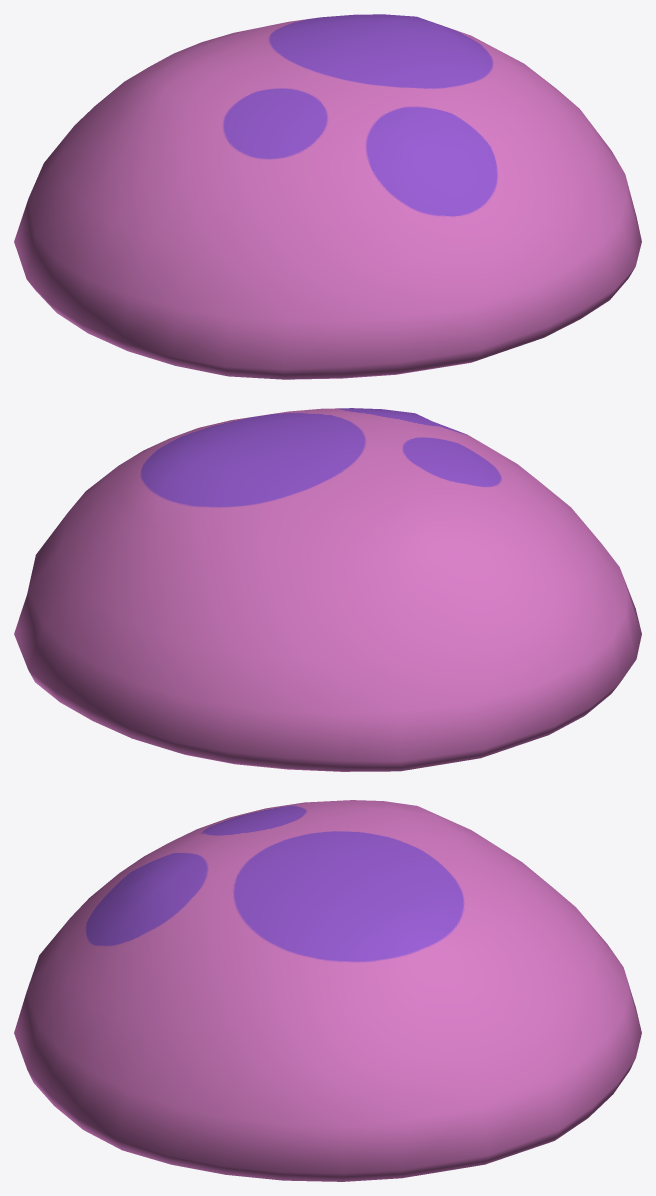
File: MushroomTop.fbx
3 views of the same model, one above another, from view 1: azimuth 30°, elevation 25°; view 2: azimuth 150°, elevation 25°; view 3: azimuth 270°, elevation 25° (orthographic). The views are drawn at different scales.
Visible parts, largest first — view 1: MushroomTop; view 2: MushroomTop; view 3: MushroomTop.
Boxes of the visible parts, box(x1,y1,x2,y2) form: MushroomTop: box(14, 14, 641, 379); MushroomTop: box(14, 408, 641, 771); MushroomTop: box(14, 800, 641, 1181).
Size of the model in its own units: 108 by 39.44 by 105.
1 material, 1 textured.
